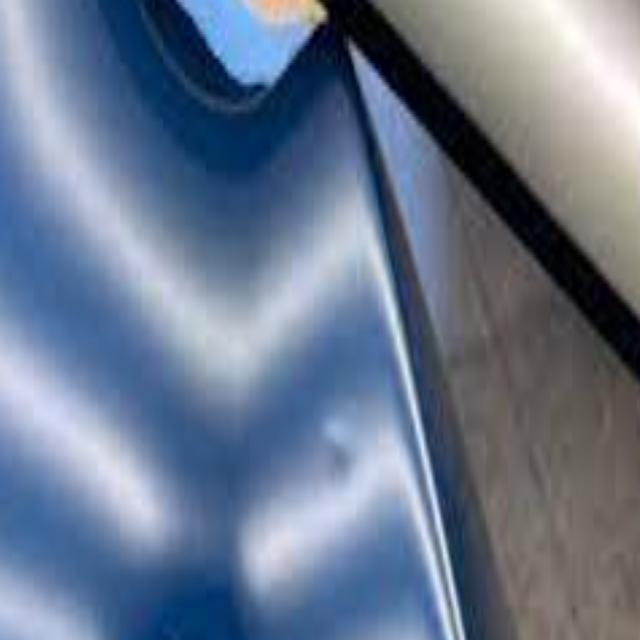dents: (317, 418, 366, 522)
